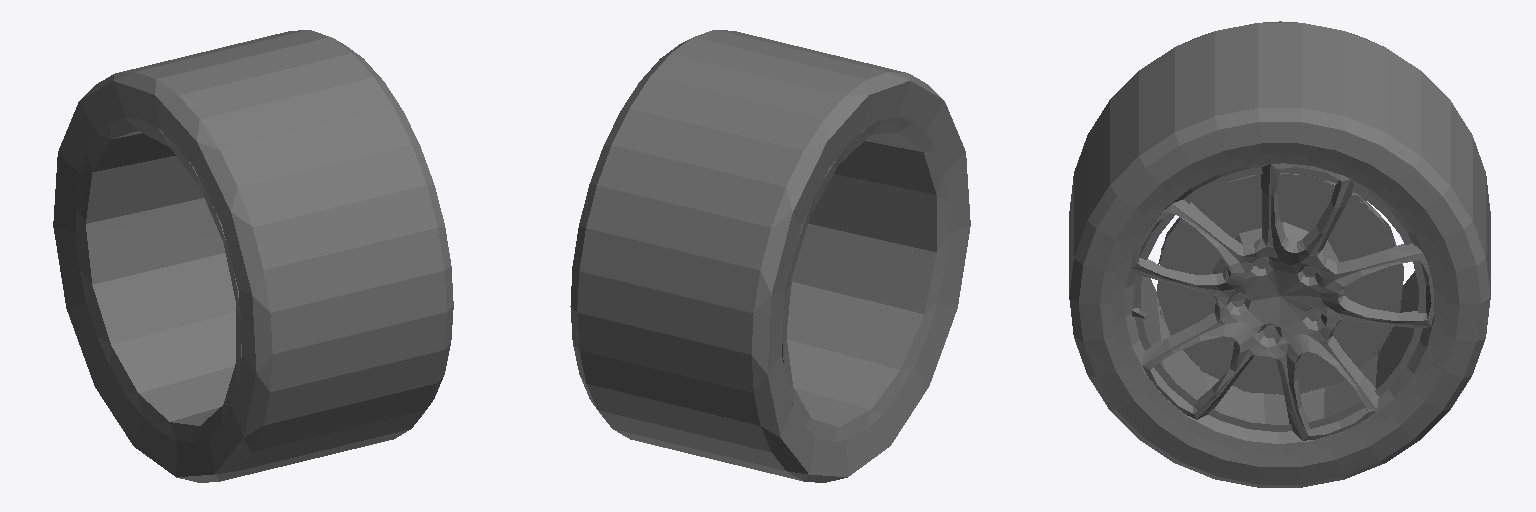
Rendered from llanta_TD.obj.
3 renders of one model, left to right at view 1: azimuth 30°, elevation 25°; view 2: azimuth 150°, elevation 25°; view 3: azimuth 270°, elevation 25°, orthographic.
Visible parts, largest first — view 1: part_028; view 2: part_028; view 3: part_028.
Boxes of the visible parts, x1=… form: part_028: x1=53, y1=30, x2=453, y2=482; part_028: x1=570, y1=30, x2=970, y2=482; part_028: x1=1069, y1=21, x2=1490, y2=487.
Size of the model in its own units: 0.3667 by 0.6579 by 0.661.